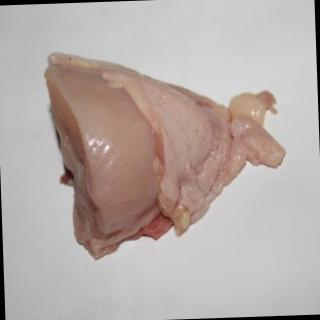Ayam: (47, 45, 290, 259)
